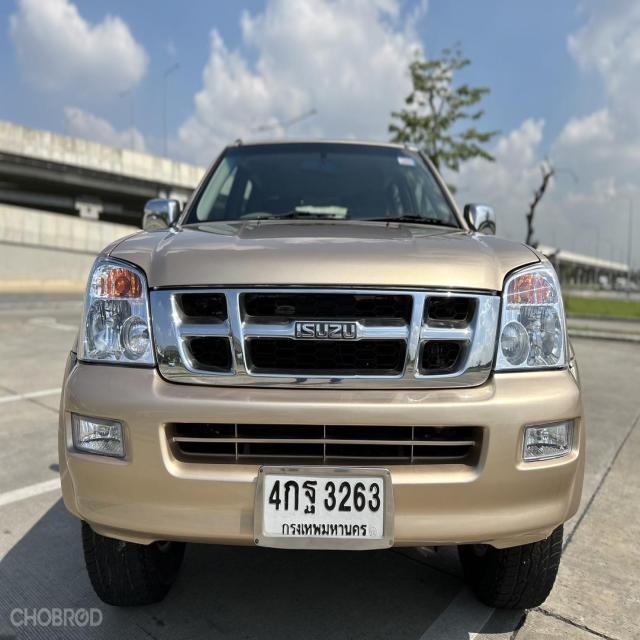license_plate: (244, 457, 402, 560)
